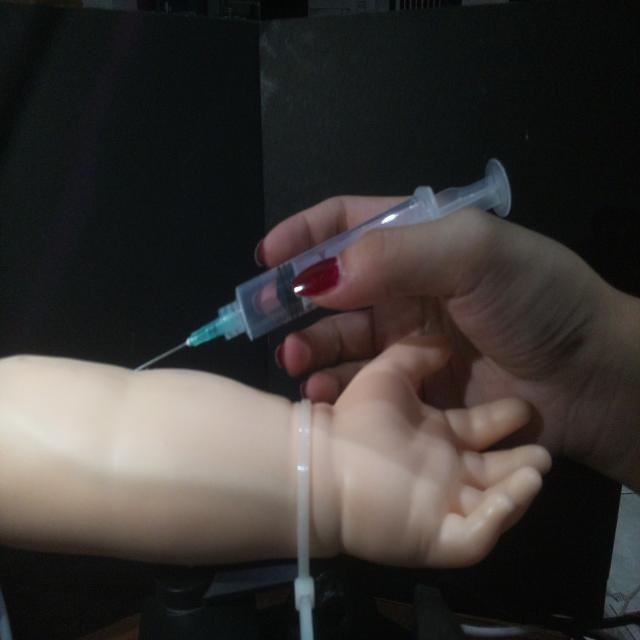22deg: (131, 152, 516, 374)
